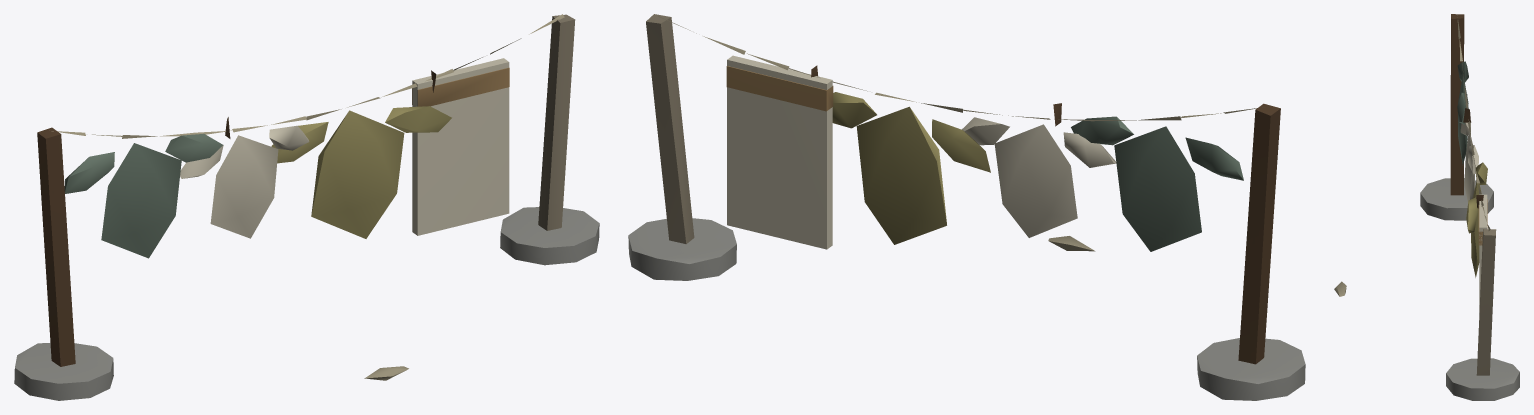
The model's file is laundry_line_a_lod2.glb.
3 views of the same model, side by side, from view 1: azimuth 30°, elevation 25°; view 2: azimuth 150°, elevation 25°; view 3: azimuth 270°, elevation 25° (orthographic). The views are drawn at different scales.
Visible parts, largest first — view 1: Surface.001; view 2: Surface.001; view 3: Surface.001.
Part boxes in pixels (box(x1,y1,x2,y2)): Surface.001: box(14, 14, 599, 400); Surface.001: box(628, 14, 1305, 400); Surface.001: box(1334, 14, 1519, 400).
Size of the model in its own units: 4.43 by 1.83 by 1.65.
